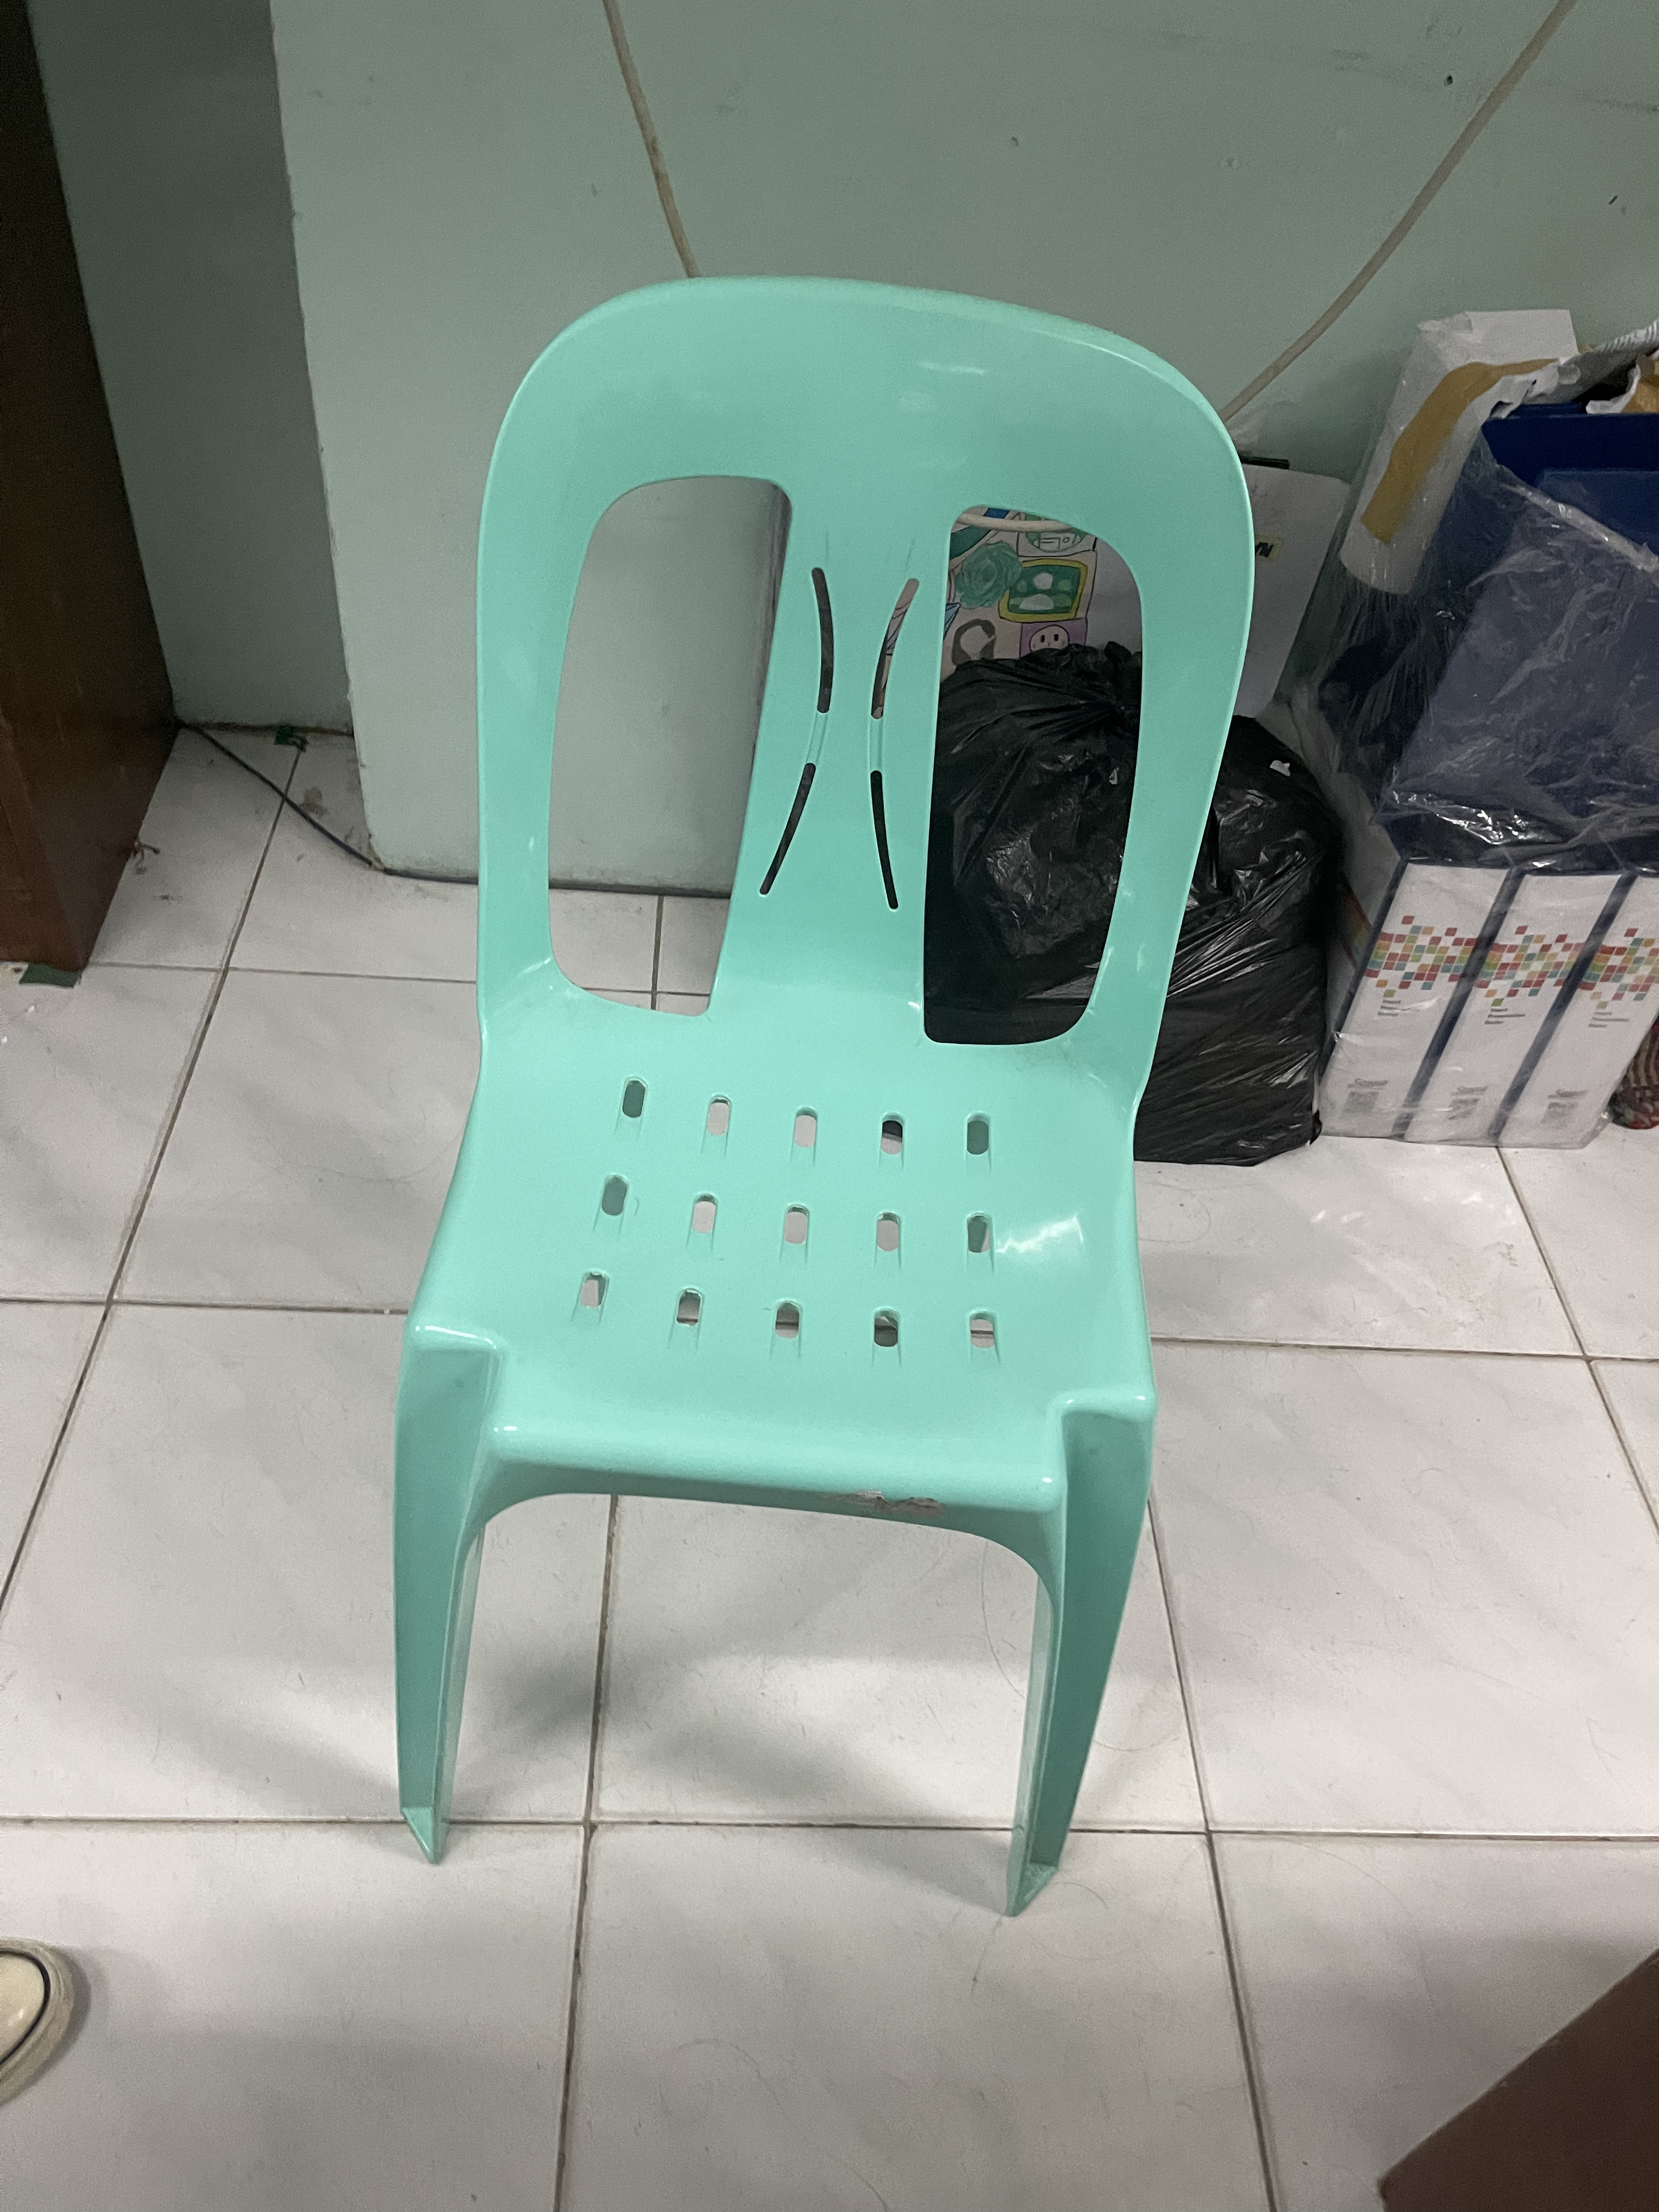chair2: (373, 272, 1260, 1925)
